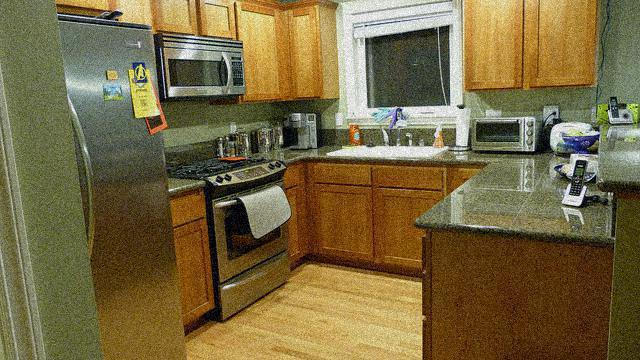Lavamanos: (326, 121, 450, 170)
